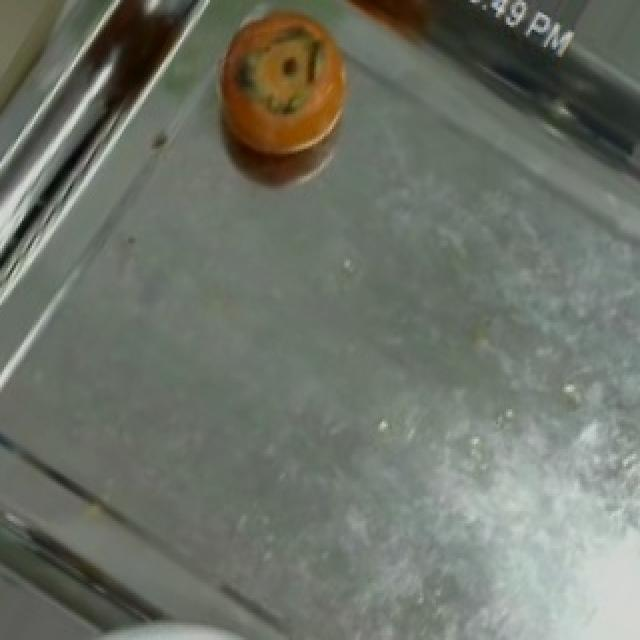Fruit: (194, 0, 376, 176)
